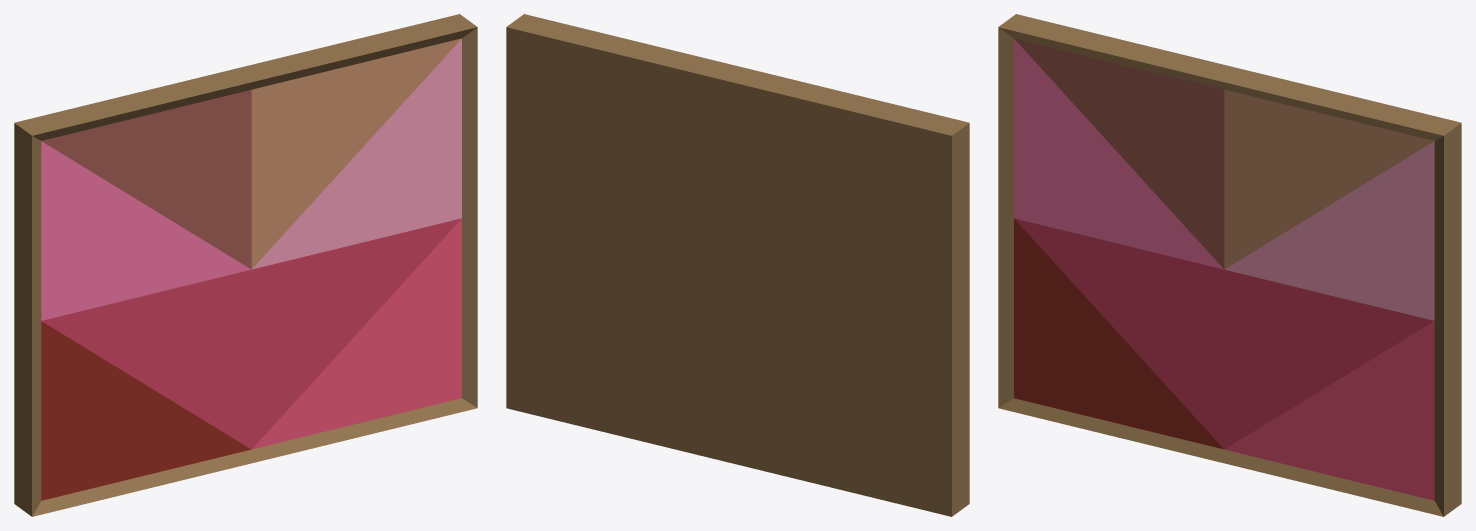
Rendered from Accesories_Frame_E.glb.
3 views of the same model, side by side, from view 1: azimuth 30°, elevation 25°; view 2: azimuth 150°, elevation 25°; view 3: azimuth 330°, elevation 25° (orthographic).
Parts seen in each view (by area): view 1: Accesories_Frame_E; view 2: Accesories_Frame_E; view 3: Accesories_Frame_E.
Boxes of the visible parts, <box> form: Accesories_Frame_E: <box>14,14,477,516</box>; Accesories_Frame_E: <box>506,14,969,516</box>; Accesories_Frame_E: <box>998,14,1461,516</box>.
Bounding box in the file's own units: 0.611 × 0.4993 × 0.0426.
Materials: 1 (1 with a texture image).
